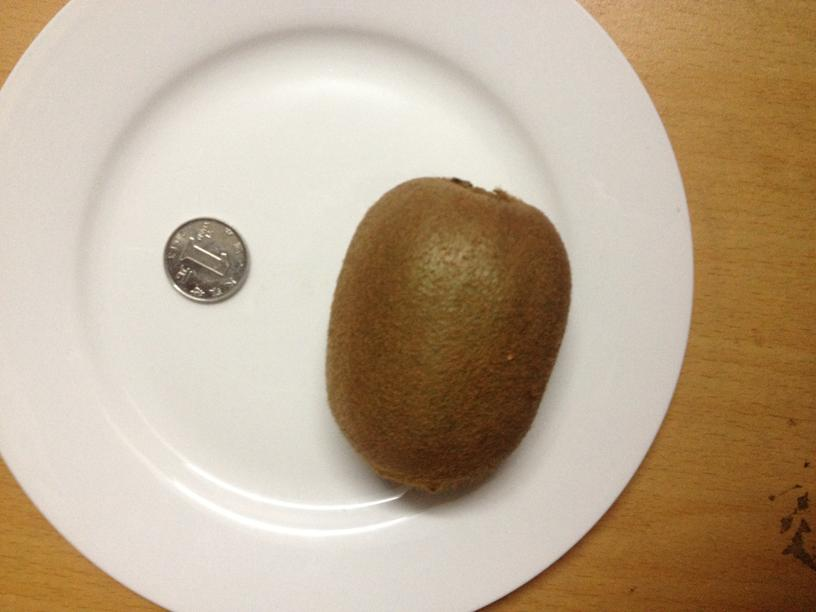coin: (161, 215, 249, 302)
qiwi: (317, 181, 569, 492)
